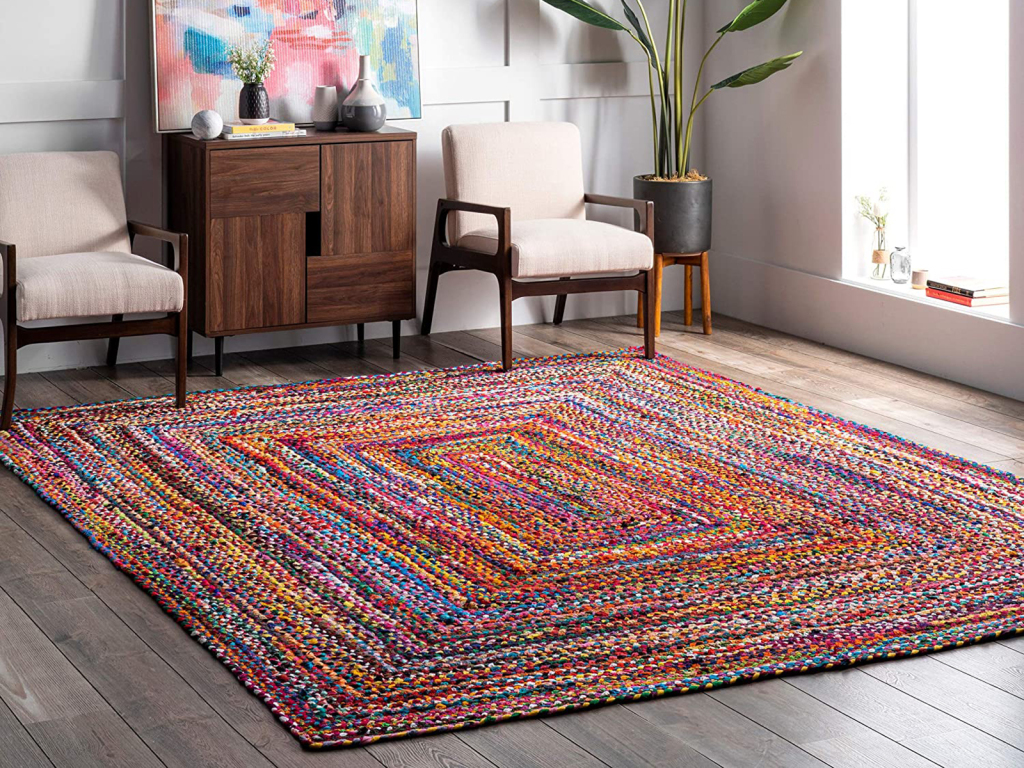coklat: (187, 137, 420, 348)
hitam: (631, 173, 714, 260)
putih: (445, 123, 646, 275), (1, 151, 179, 315), (313, 85, 336, 119)
